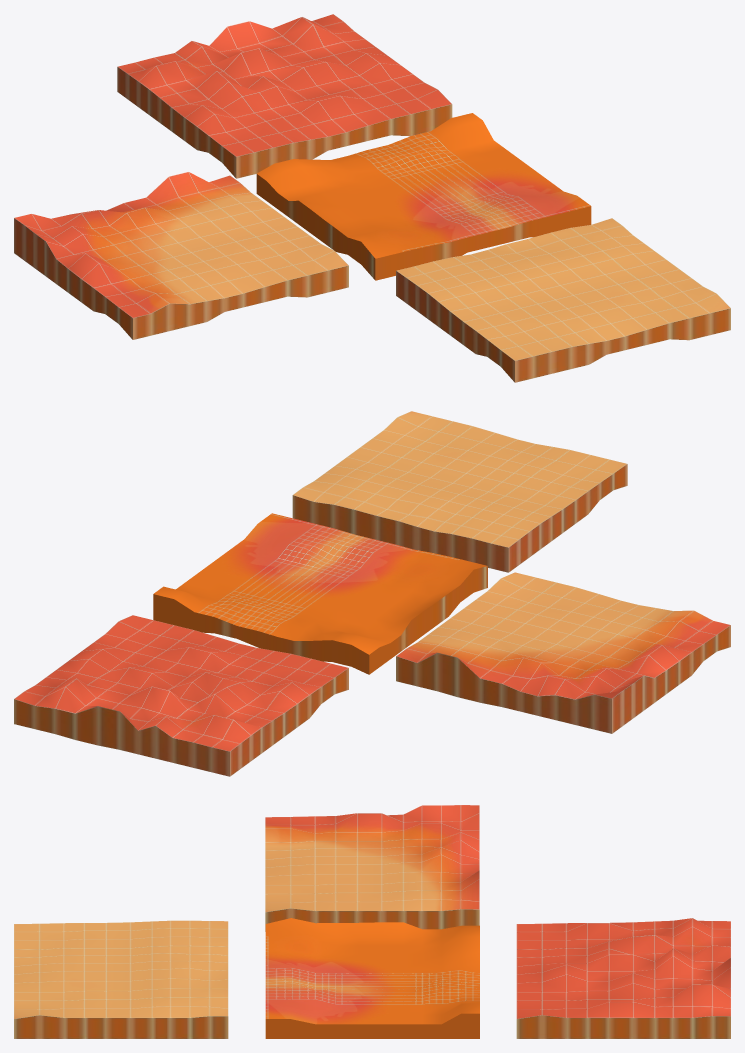
Rendered from Tiles.fbx.
The picture shows the model from 3 angles, top to bottom: view 1: azimuth 30°, elevation 25°; view 2: azimuth 150°, elevation 25°; view 3: azimuth 270°, elevation 25°; orthographic projection. The views are drawn at different scales.
Visible parts, largest first — view 1: tile3, tile4, tile2, Tile1; view 2: tile3, tile4, tile2, Tile1; view 3: tile4, tile2, Tile1, tile3.
Part boxes in pixels (x1,y1,x2,y2): tile3: (14,172,348,339); tile4: (117,14,452,178); tile2: (396,218,730,382); Tile1: (256,113,591,280); tile3: (396,572,730,733); tile4: (14,615,348,776); tile2: (292,411,627,572); Tile1: (153,513,487,674); tile4: (516,918,730,1038); tile2: (14,920,228,1038); Tile1: (265,918,479,1038); tile3: (265,805,479,931).
Bounding box in the file's own units: 50.44 × 4.34 × 75.7.
